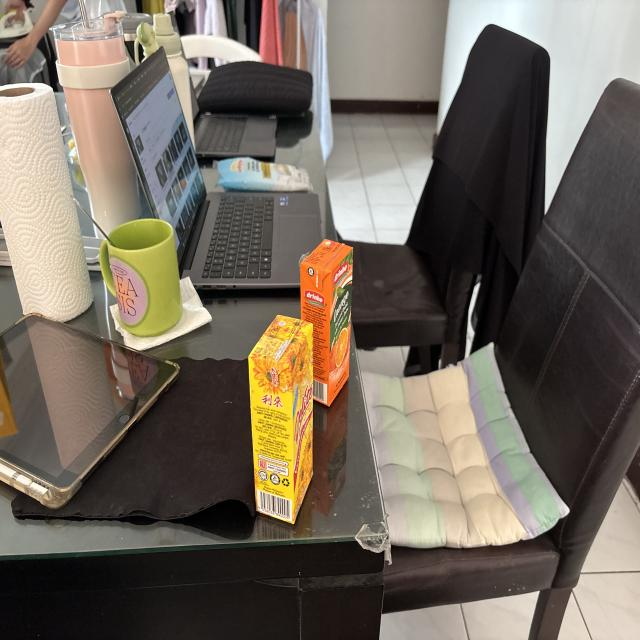drink_carton: (243, 308, 320, 532), (296, 226, 359, 414)
